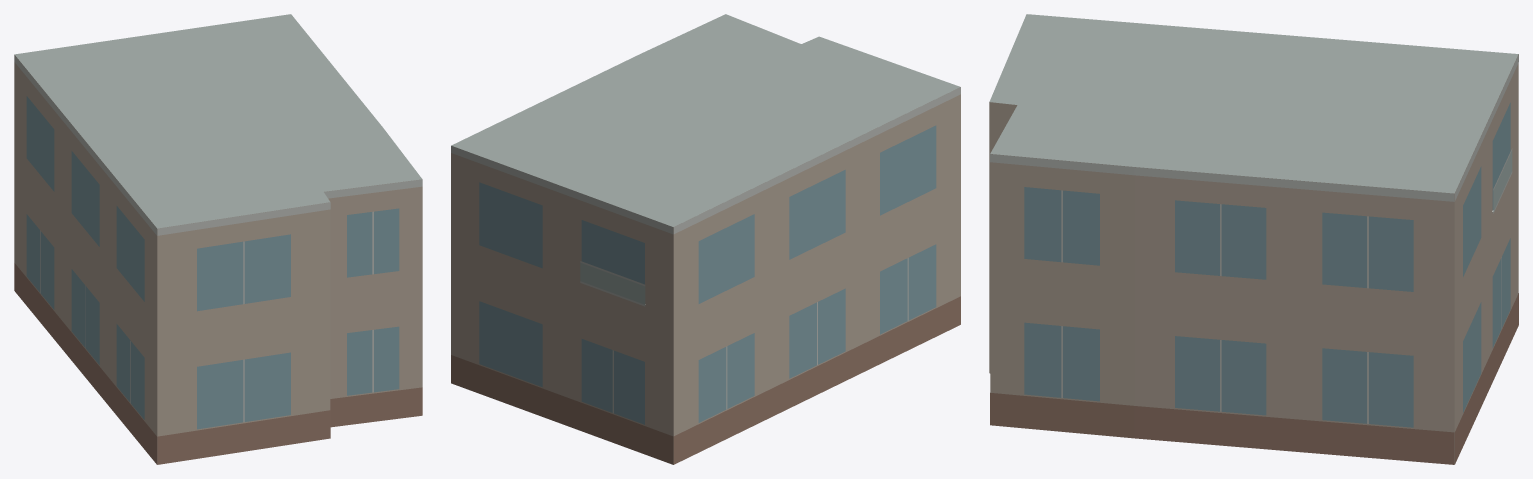
Rendered from survey-upis-32495561.glb.
3 renders of one model, left to right at view 1: azimuth 30°, elevation 25°; view 2: azimuth 150°, elevation 25°; view 3: azimuth 270°, elevation 25°, orthographic. The views are drawn at different scales.
Parts seen in each view (by area): view 1: survey-upis-32495561.tmp; view 2: survey-upis-32495561.tmp; view 3: survey-upis-32495561.tmp.
Boxes of the visible parts, x1,y1,x2,y2 form: survey-upis-32495561.tmp: (14, 14, 422, 464); survey-upis-32495561.tmp: (451, 14, 960, 464); survey-upis-32495561.tmp: (989, 14, 1518, 464).
Size of the model in its own units: 11.22 by 7.9 by 13.98.
